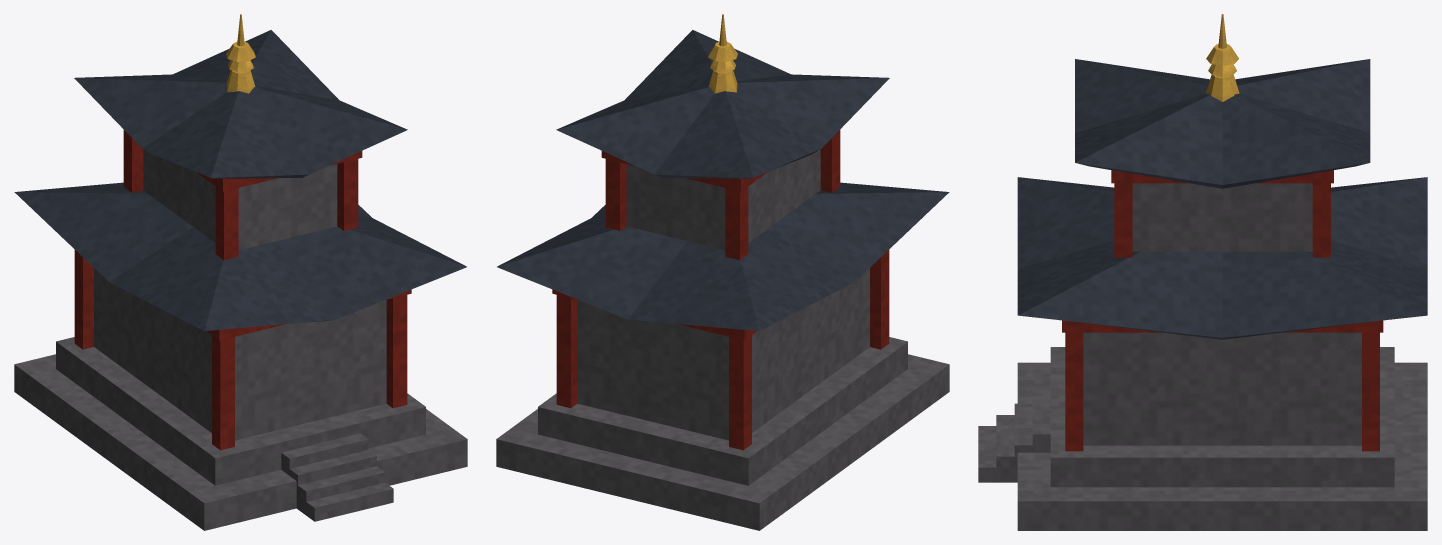
Rendered from Summit_Temple_Wing.glb.
3 views of the same model, side by side, from view 1: azimuth 30°, elevation 25°; view 2: azimuth 150°, elevation 25°; view 3: azimuth 270°, elevation 25° (orthographic). The views are drawn at different scales.
Parts seen in each view (by area): view 1: Summit_Temple_Wing__Stone, Summit_Temple_Wing__Roof, Summit_Temple_Wing__Timber, Summit_Temple_Wing__Bronze; view 2: Summit_Temple_Wing__Stone, Summit_Temple_Wing__Roof, Summit_Temple_Wing__Timber, Summit_Temple_Wing__Bronze; view 3: Summit_Temple_Wing__Stone, Summit_Temple_Wing__Roof, Summit_Temple_Wing__Timber, Summit_Temple_Wing__Bronze.
Part boxes in pixels (x1,y1,x2,y2): Summit_Temple_Wing__Stone: (14,149,467,530); Summit_Temple_Wing__Roof: (14,30,466,331); Summit_Temple_Wing__Timber: (74,130,411,450); Summit_Temple_Wing__Bronze: (226,14,255,93); Summit_Temple_Wing__Stone: (496,149,949,530); Summit_Temple_Wing__Roof: (497,30,949,331); Summit_Temple_Wing__Timber: (552,130,889,450); Summit_Temple_Wing__Bronze: (708,14,737,93); Summit_Temple_Wing__Stone: (978,183,1427,530); Summit_Temple_Wing__Roof: (1017,59,1427,339); Summit_Temple_Wing__Timber: (1062,170,1383,451); Summit_Temple_Wing__Bronze: (1206,14,1239,101).
Bounding box in the file's own units: 40 × 60.24 × 54.8.
Materials: 4 (4 with a texture image).
